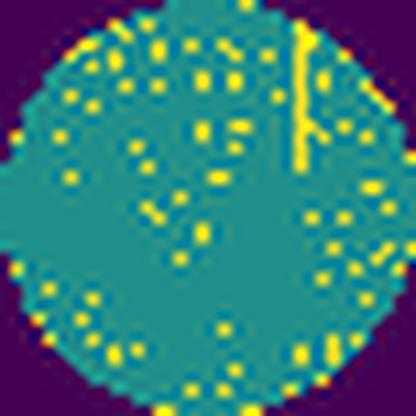Scratch: (287, 18, 332, 180)
